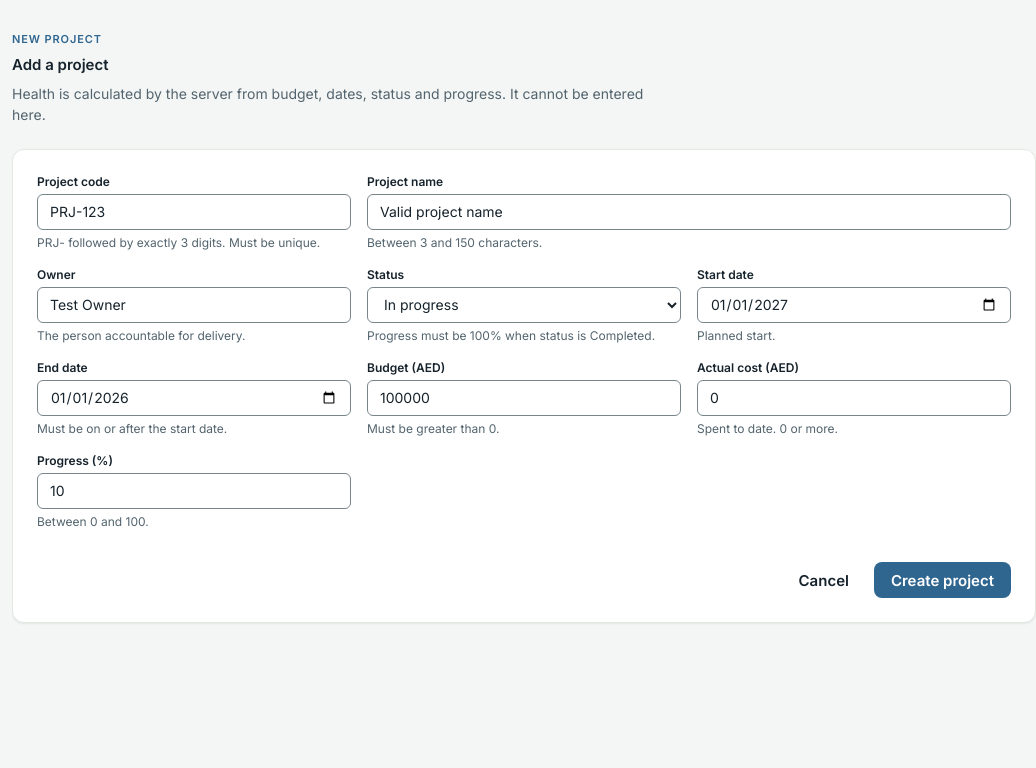
it: ProjectFormComponent › mirrors the server rule that end date cannot precede start date
This screenshot has width=1036, height=768.
Click the submit button at (942, 580), box [874, 562, 1011, 598]
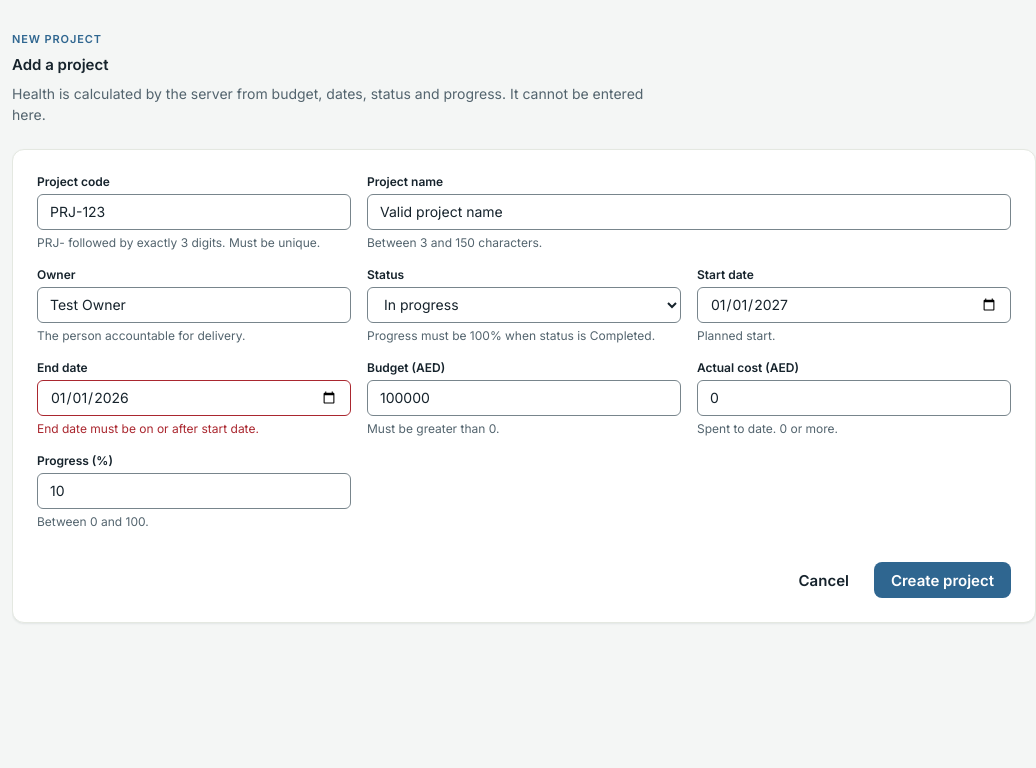
Expected: the text with id "endDate-message" reads "End date must be on or after start date.", [37, 421, 259, 436]
